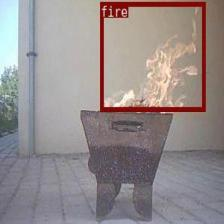fire: (100, 1, 205, 111)
